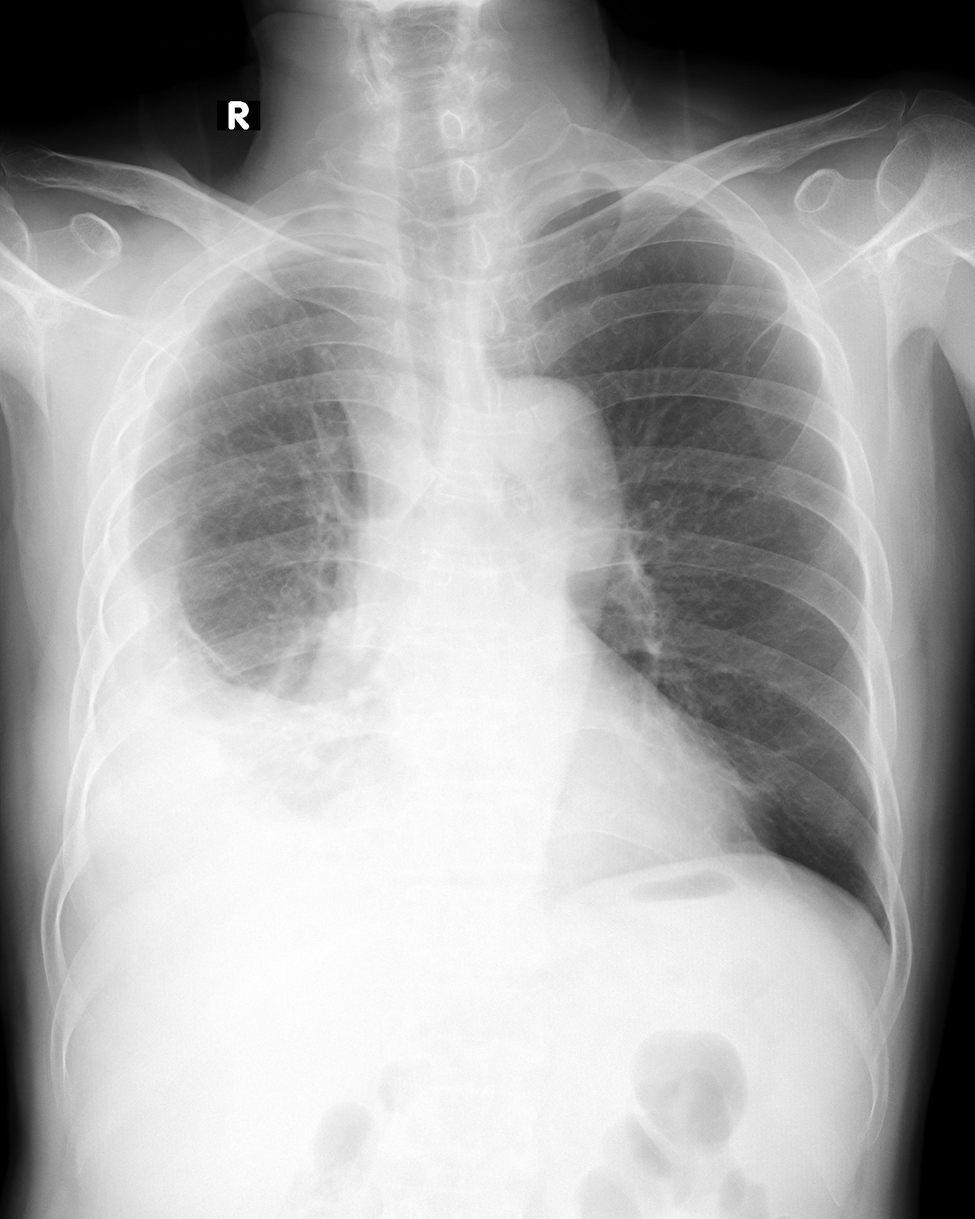Aortic enlargement: (468, 372, 622, 560)
